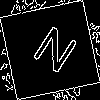N: (25, 25, 80, 82)
